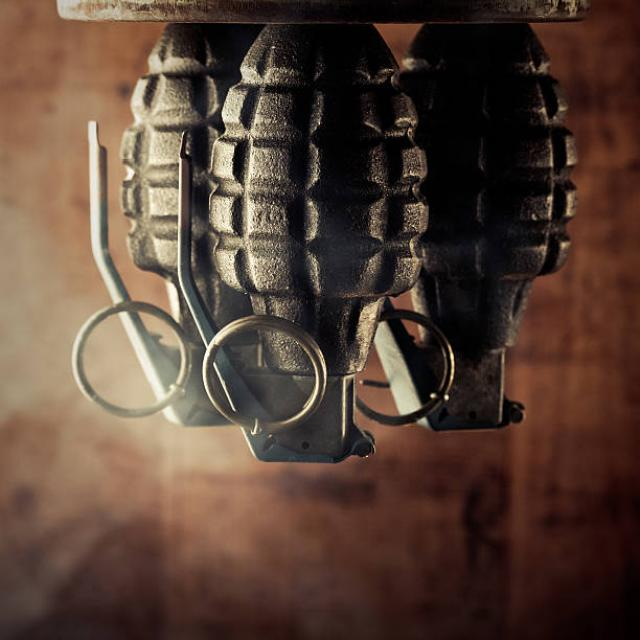grenade: (175, 19, 419, 471), (353, 20, 588, 442), (63, 24, 256, 433)
